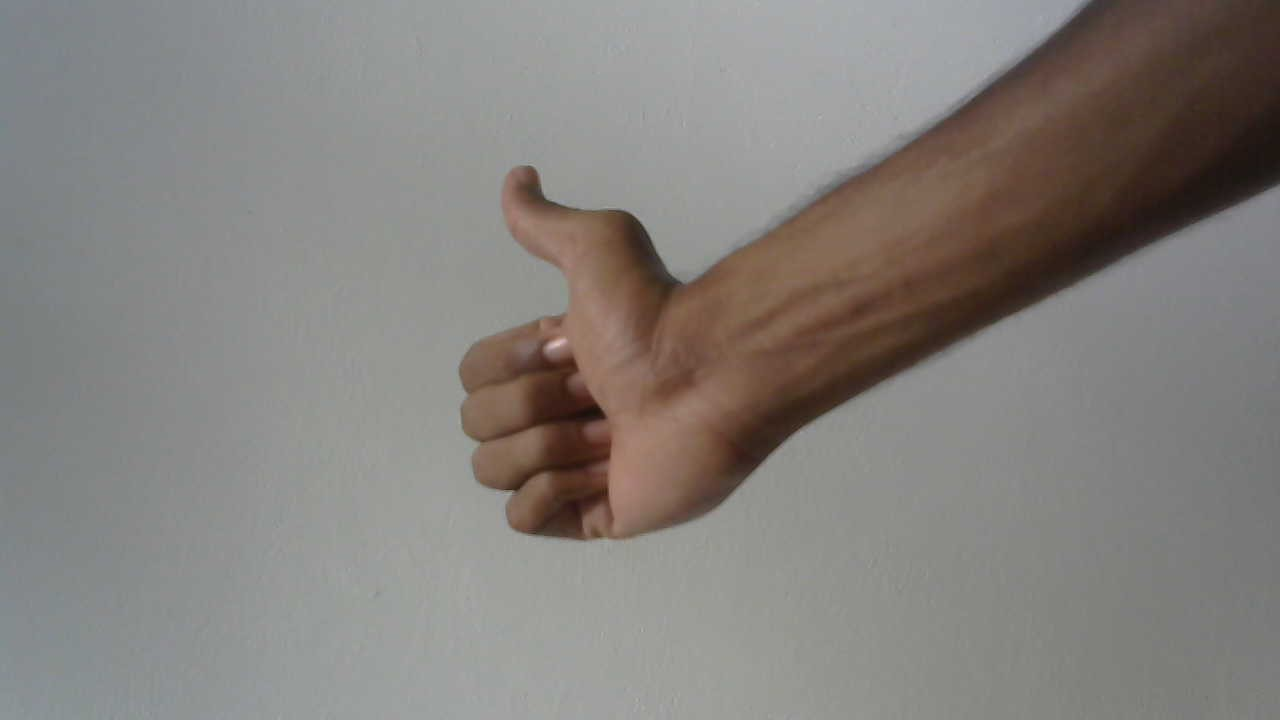thumbsup: (445, 158, 772, 574)
